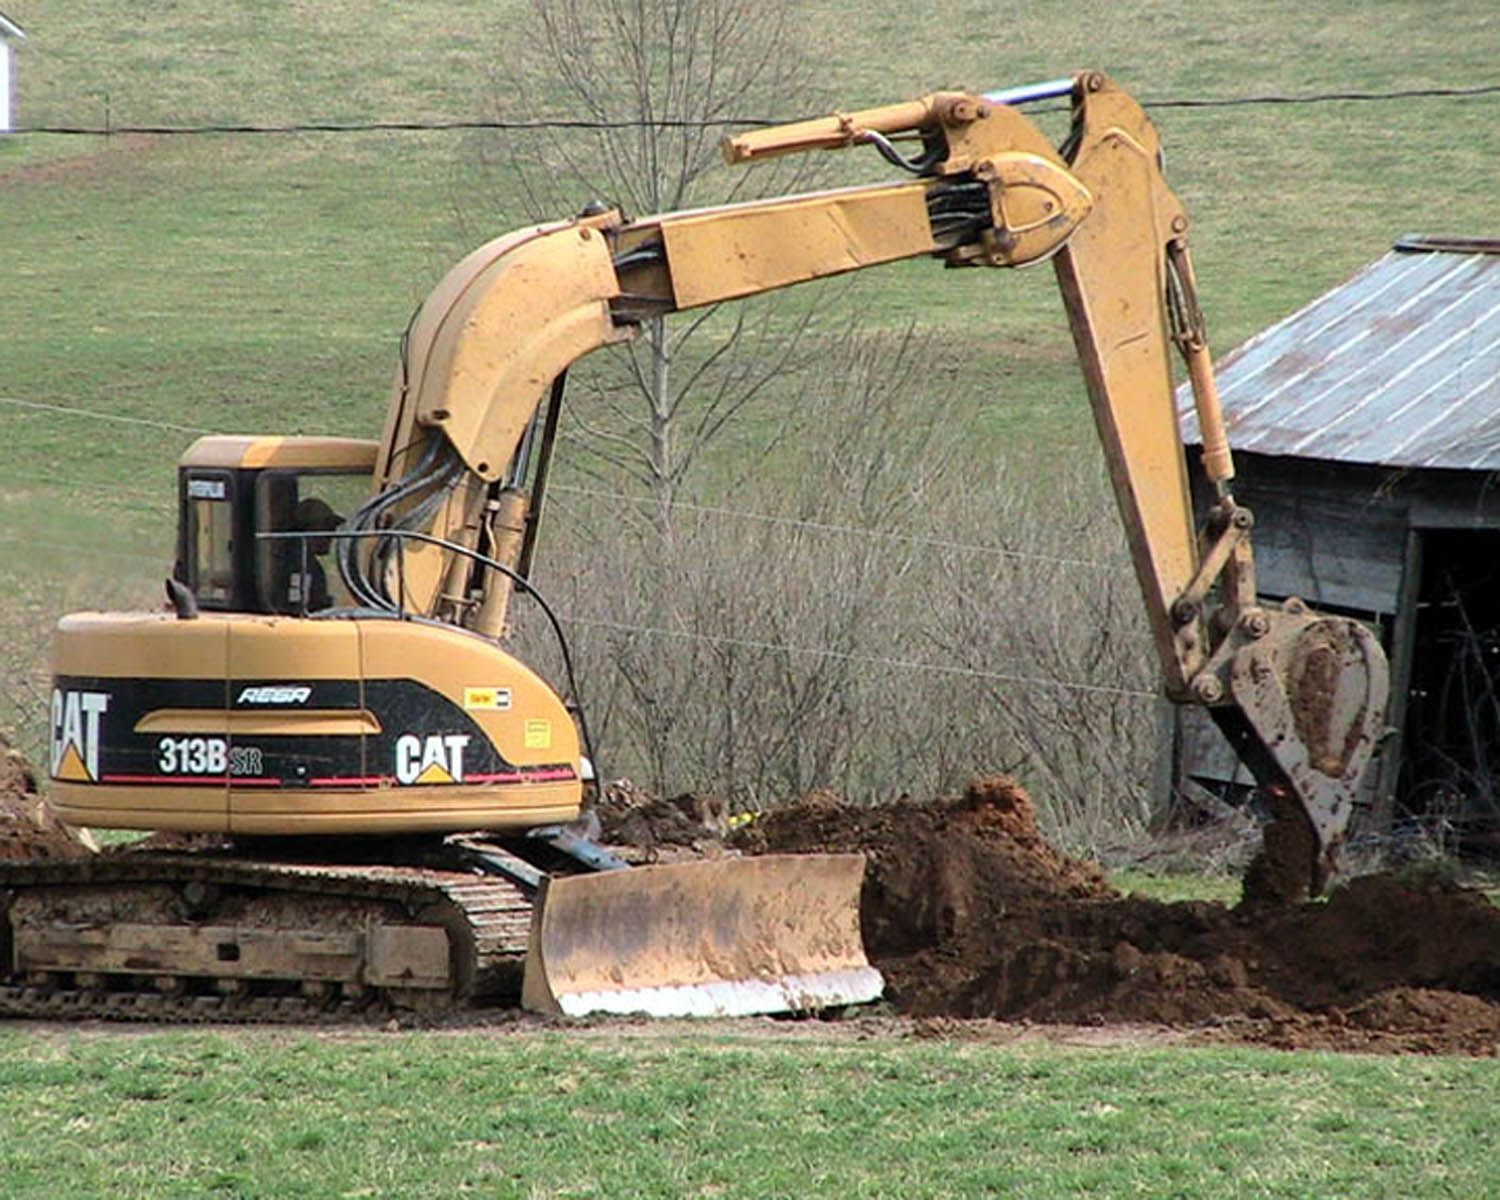excavator: (59, 89, 1385, 1043)
